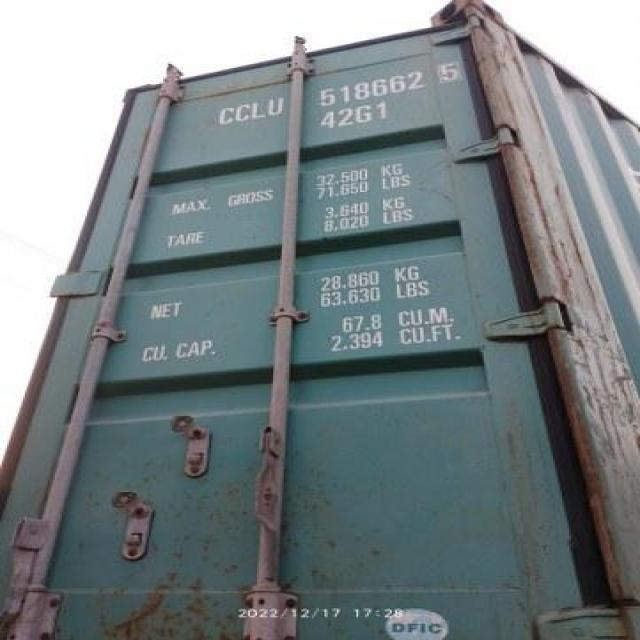ISO: (309, 94, 393, 136)
container_number: (220, 56, 472, 132)
